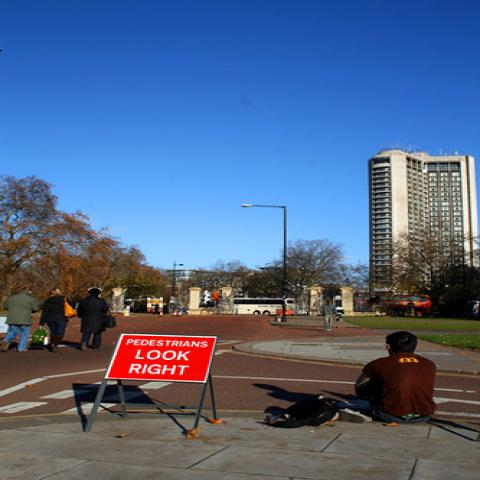bus: (234, 298, 285, 315)
